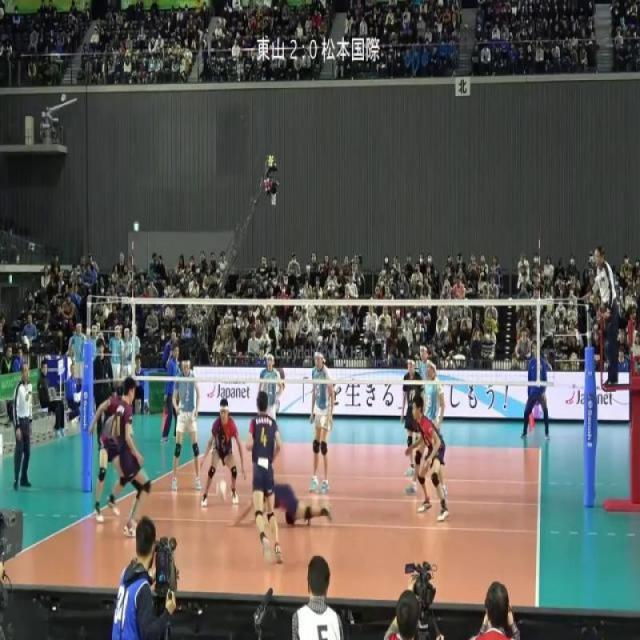volleyball: (216, 480, 228, 502)
